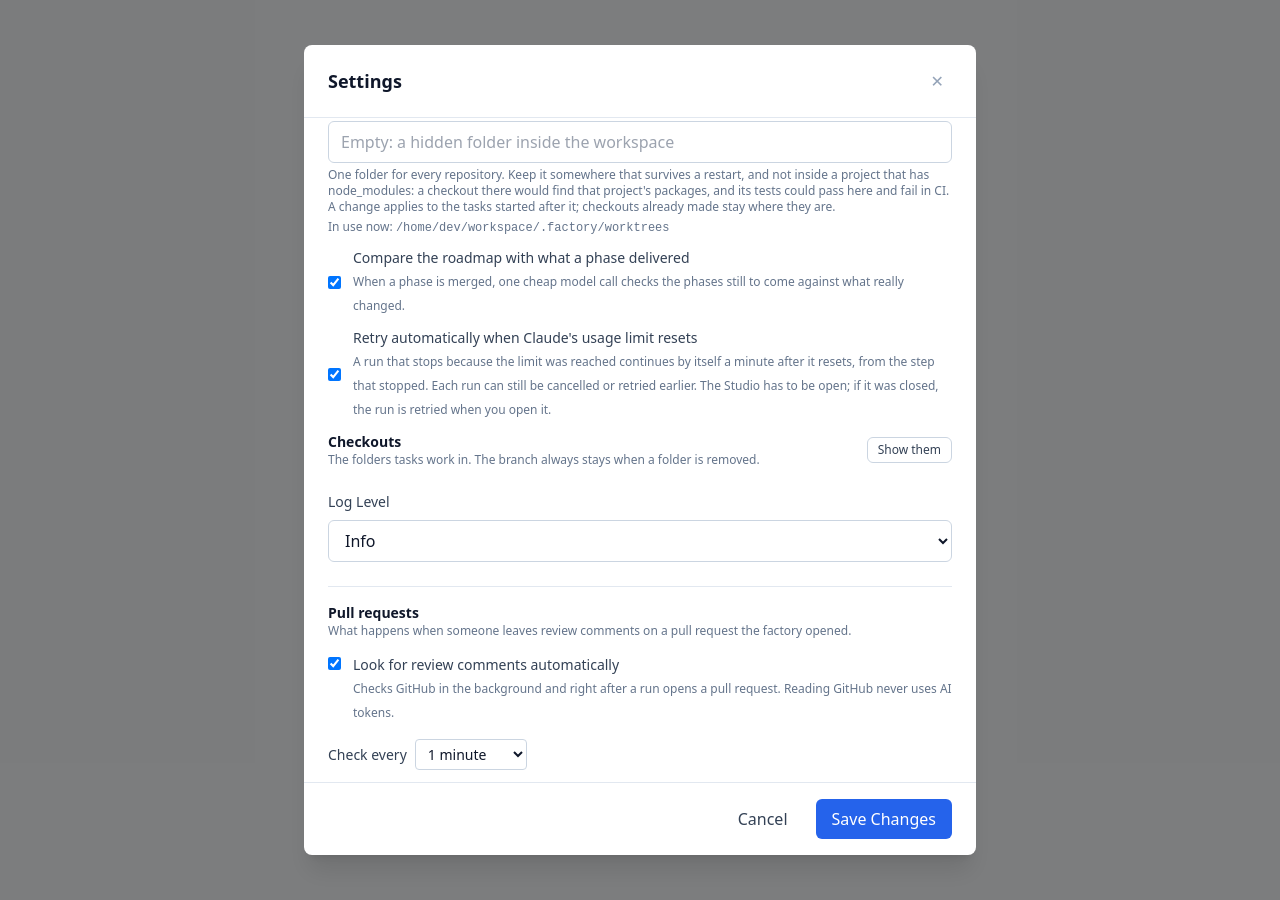
Test: the checkouts › says why one was kept
(page scrolled)
Click the button "Show them": (909, 450) x1=867 y1=437 x2=952 y2=463
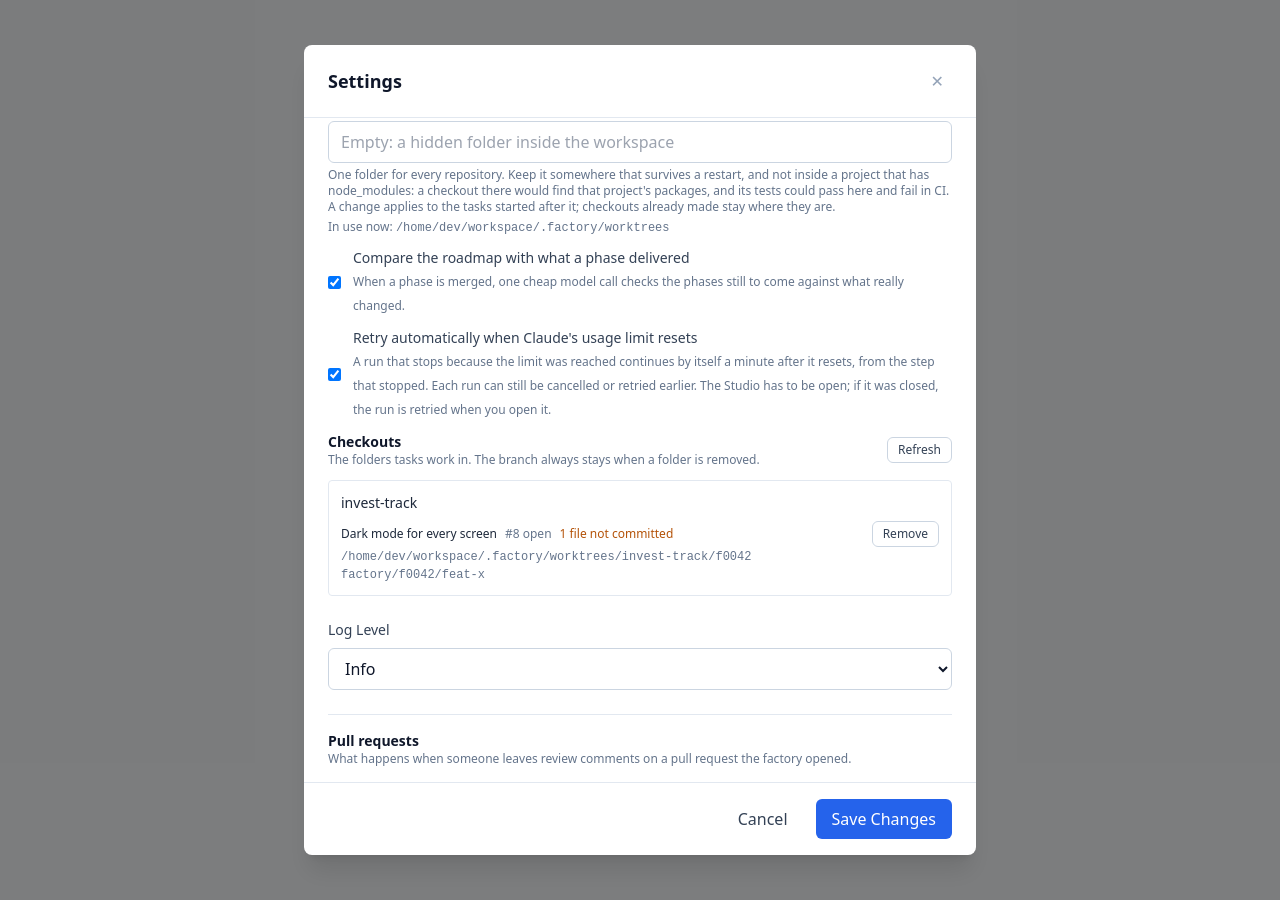
Click the button "Remove": (905, 534) x1=872 y1=521 x2=939 y2=547
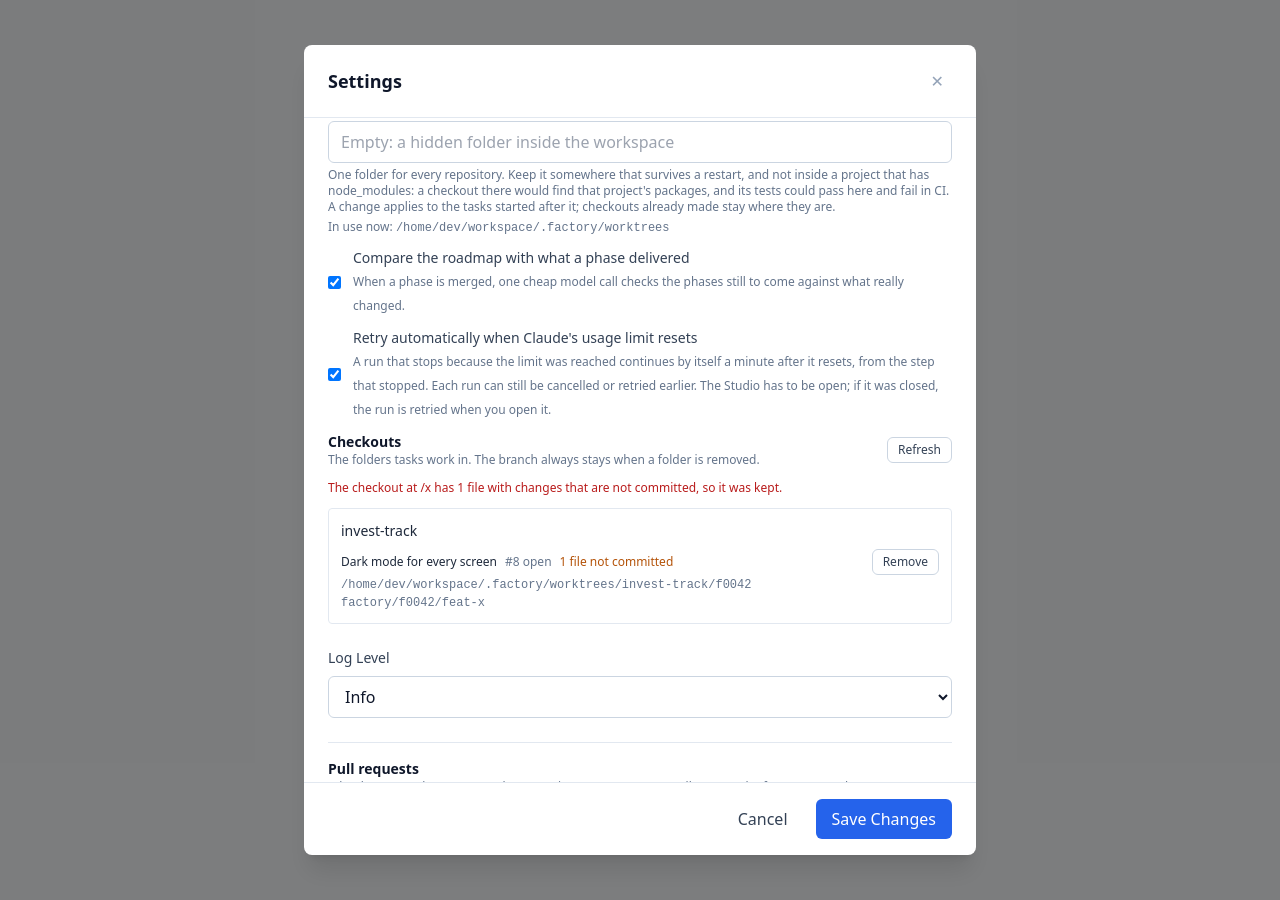
Expected: the message shows "so it was kept", x1=328 y1=479 x2=782 y2=496
